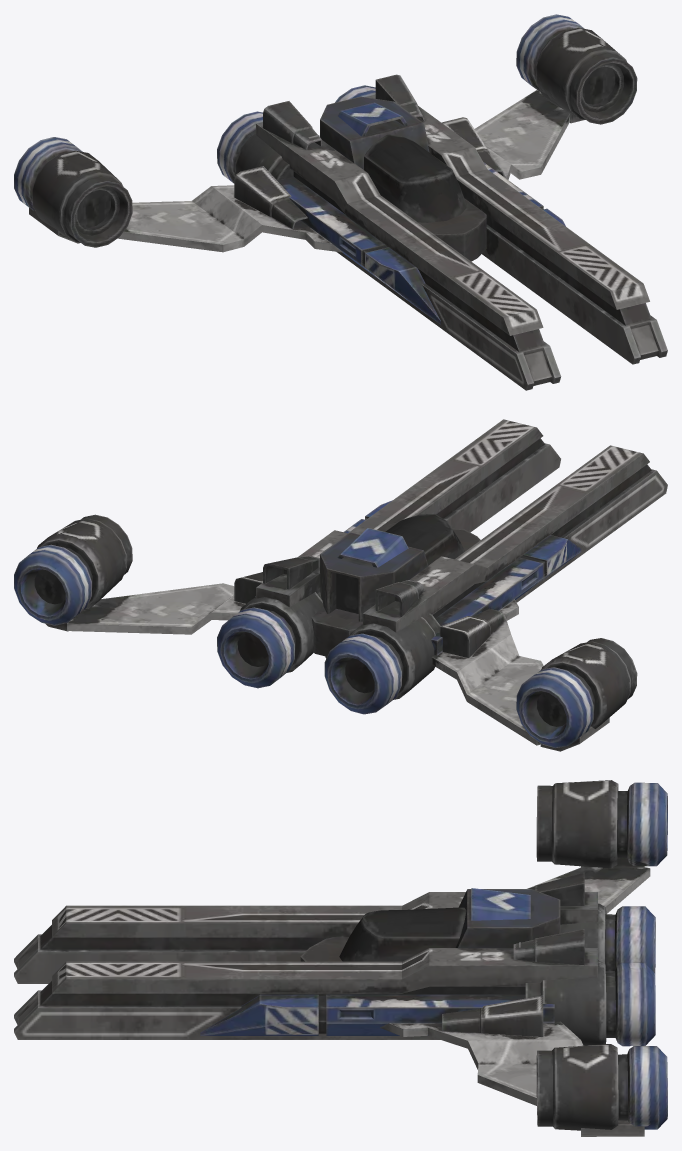
The model's file is cuirasse_boreale.glb.
3 renders of one model, top to bottom at view 1: azimuth 30°, elevation 25°; view 2: azimuth 150°, elevation 25°; view 3: azimuth 270°, elevation 25°, orthographic. The views are drawn at different scales.
Parts seen in each view (by area): view 1: Executioner; view 2: Executioner; view 3: Executioner.
Boxes of the visible parts, x1,y1,x2,y2 form: Executioner: (14,14,667,390); Executioner: (14,419,667,751); Executioner: (14,780,667,1136).
Size of the model in its own units: 10.02 by 1.85 by 9.2.
1 material, 1 textured.
